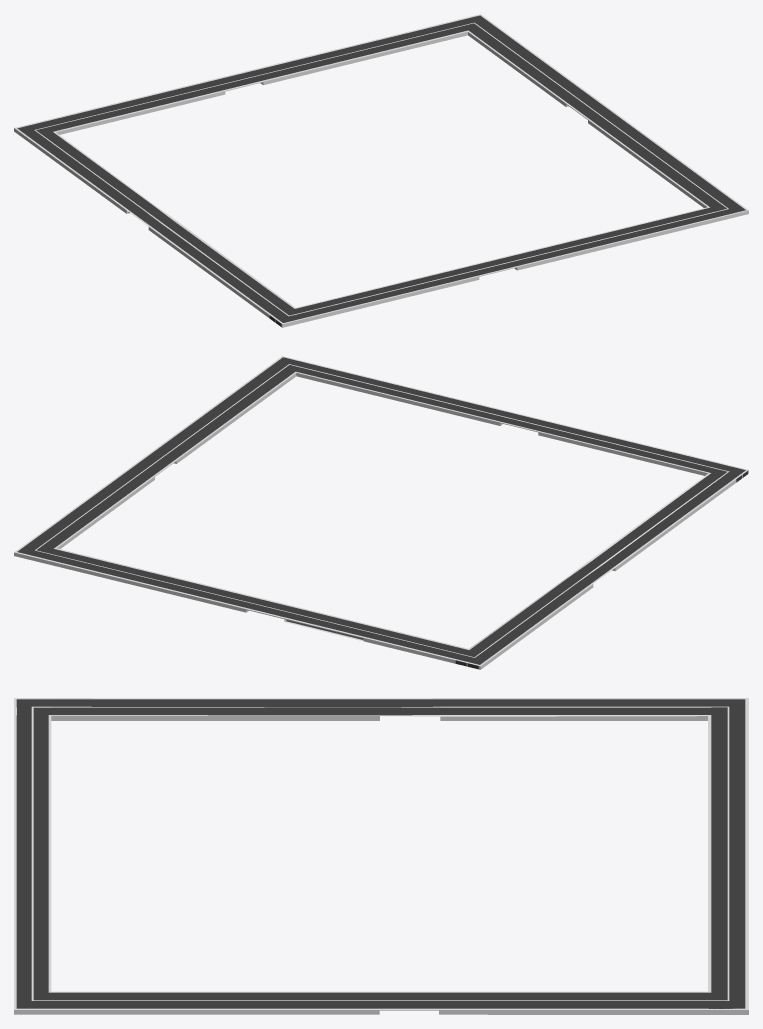
The model's file is route.gltf.
3 views of the same model, one above another, from view 1: azimuth 30°, elevation 25°; view 2: azimuth 150°, elevation 25°; view 3: azimuth 270°, elevation 25° (orthographic). The views are drawn at different scales.
Parts seen in each view (by area): view 1: route; view 2: route; view 3: route.
Part boxes in pixels (<box>): route: <box>14,14,748,327</box>; route: <box>14,356,748,669</box>; route: <box>14,698,748,1014</box>.
Bounding box in the file's own units: 3.77 × 0.0276 × 3.75.
2 materials, 2 textured.
